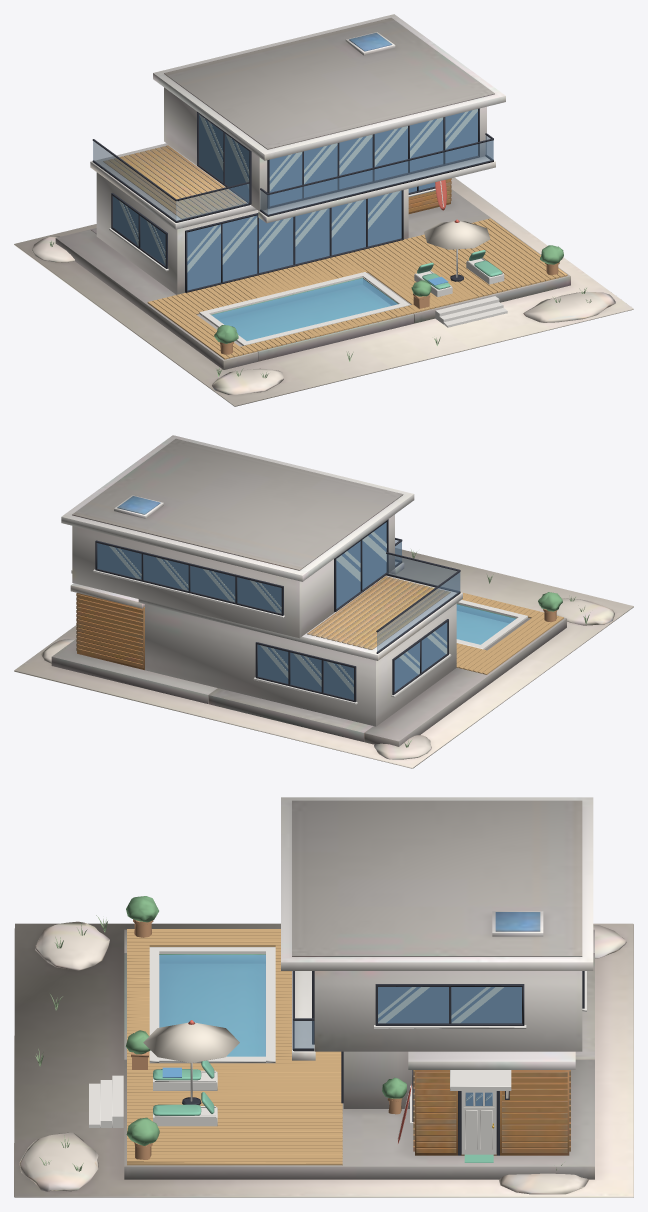
The model's file is luxury-beach-house-34CUOCD3.glb.
3 renders of one model, top to bottom at view 1: azimuth 30°, elevation 25°; view 2: azimuth 150°, elevation 25°; view 3: azimuth 270°, elevation 25°, orthographic. The views are drawn at different scales.
Parts seen in each view (by area): view 1: luxury-beach-house_body, luxury-beach-house_details, luxury-beach-house_railing_glass, luxury-beach-house_glints, luxury-beach-house_pool_water, luxury-beach-house_details_parasol, luxury-beach-house_plants, luxury-beach-house; view 2: luxury-beach-house_body, luxury-beach-house_details, luxury-beach-house_railing_glass, luxury-beach-house_glints, luxury-beach-house_pool_water; view 3: luxury-beach-house_body, luxury-beach-house_details, luxury-beach-house_pool_water, luxury-beach-house_details_parasol, luxury-beach-house_door_l, luxury-beach-house_plants, luxury-beach-house, luxury-beach-house_glints, luxury-beach-house_railing_glass.
Boxes of the visible parts, <box> form: luxury-beach-house_body: <box>14,14,633,406</box>; luxury-beach-house_details: <box>92,108,567,359</box>; luxury-beach-house_railing_glass: <box>93,135,493,220</box>; luxury-beach-house_glints: <box>119,109,477,272</box>; luxury-beach-house_pool_water: <box>211,278,397,340</box>; luxury-beach-house_details_parasol: <box>424,219,490,249</box>; luxury-beach-house_plants: <box>214,245,563,343</box>; luxury-beach-house: <box>417,250,502,289</box>; luxury-beach-house_body: <box>14,435,633,768</box>; luxury-beach-house_details: <box>71,519,563,704</box>; luxury-beach-house_railing_glass: <box>377,540,460,651</box>; luxury-beach-house_glints: <box>109,532,447,693</box>; luxury-beach-house_pool_water: <box>456,604,515,644</box>; luxury-beach-house_body: <box>14,797,633,1197</box>; luxury-beach-house_details: <box>89,919,586,1165</box>; luxury-beach-house_pool_water: <box>159,955,265,1056</box>; luxury-beach-house_details_parasol: <box>143,1020,239,1063</box>; luxury-beach-house_door_l: <box>461,1091,496,1154</box>; luxury-beach-house_plants: <box>125,896,406,1145</box>; luxury-beach-house: <box>153,1060,214,1115</box>; luxury-beach-house_glints: <box>378,987,503,1023</box>; luxury-beach-house_railing_glass: <box>293,1020,314,1048</box>.
Size of the model in its own units: 19.99 by 7.49 by 19.19.
Materials: 20 (1 with a texture image).
